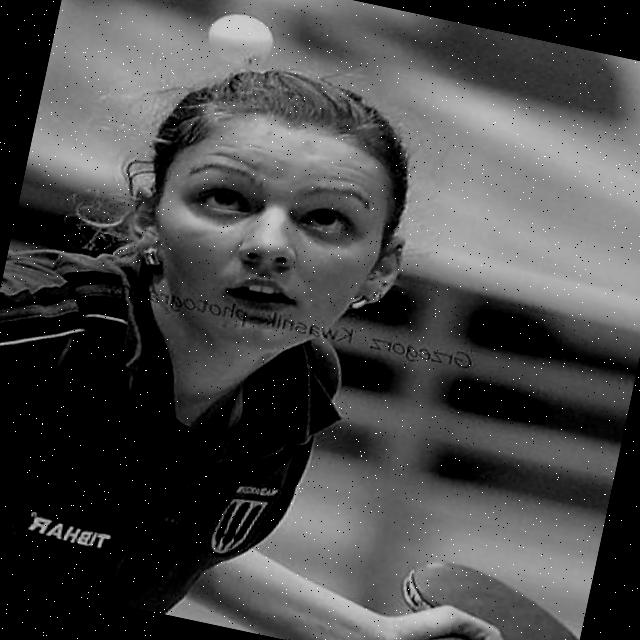ping-pong-ball: (200, 5, 279, 76)
